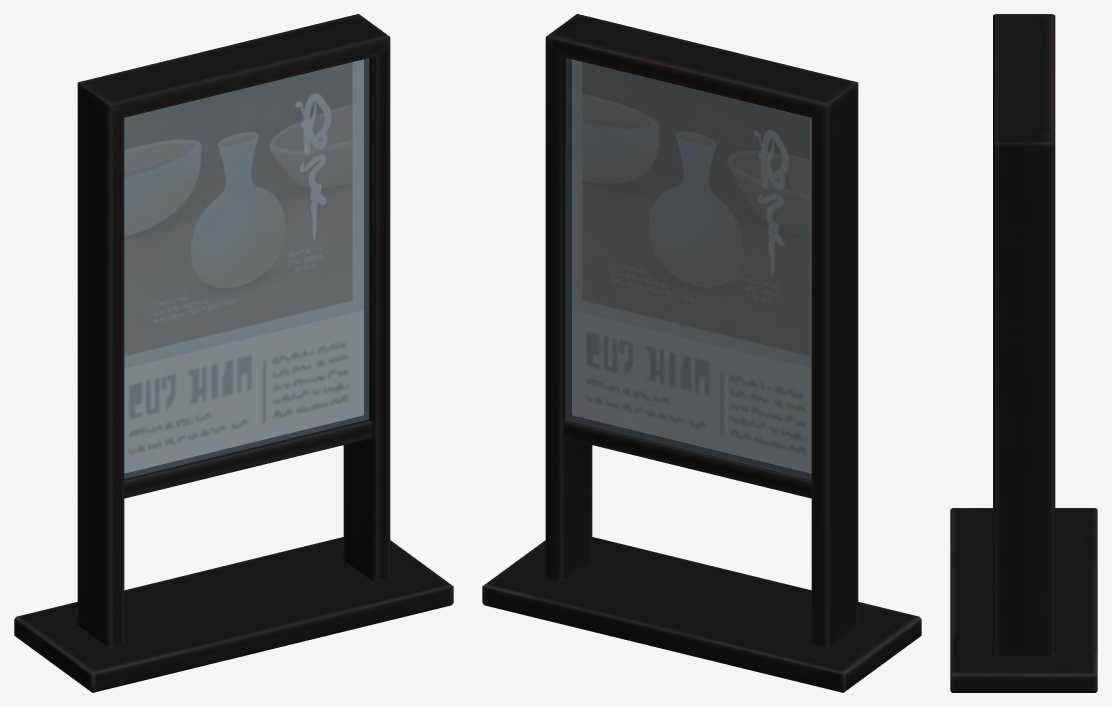
3 renders of one model, left to right at view 1: azimuth 30°, elevation 25°; view 2: azimuth 150°, elevation 25°; view 3: azimuth 270°, elevation 25°, orthographic. The views are drawn at different scales.
Size of the model in its own units: 8.79 by 13.01 by 3.27.
Materials: 3 (2 with a texture image).
